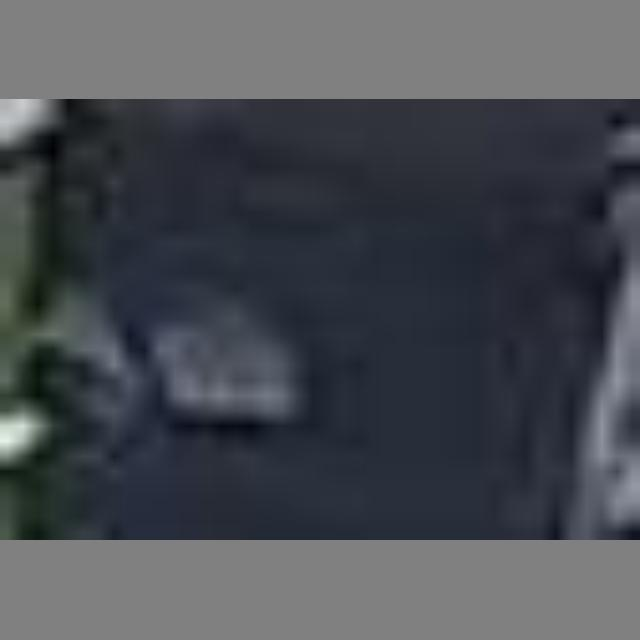pakai: (76, 206, 350, 480)
